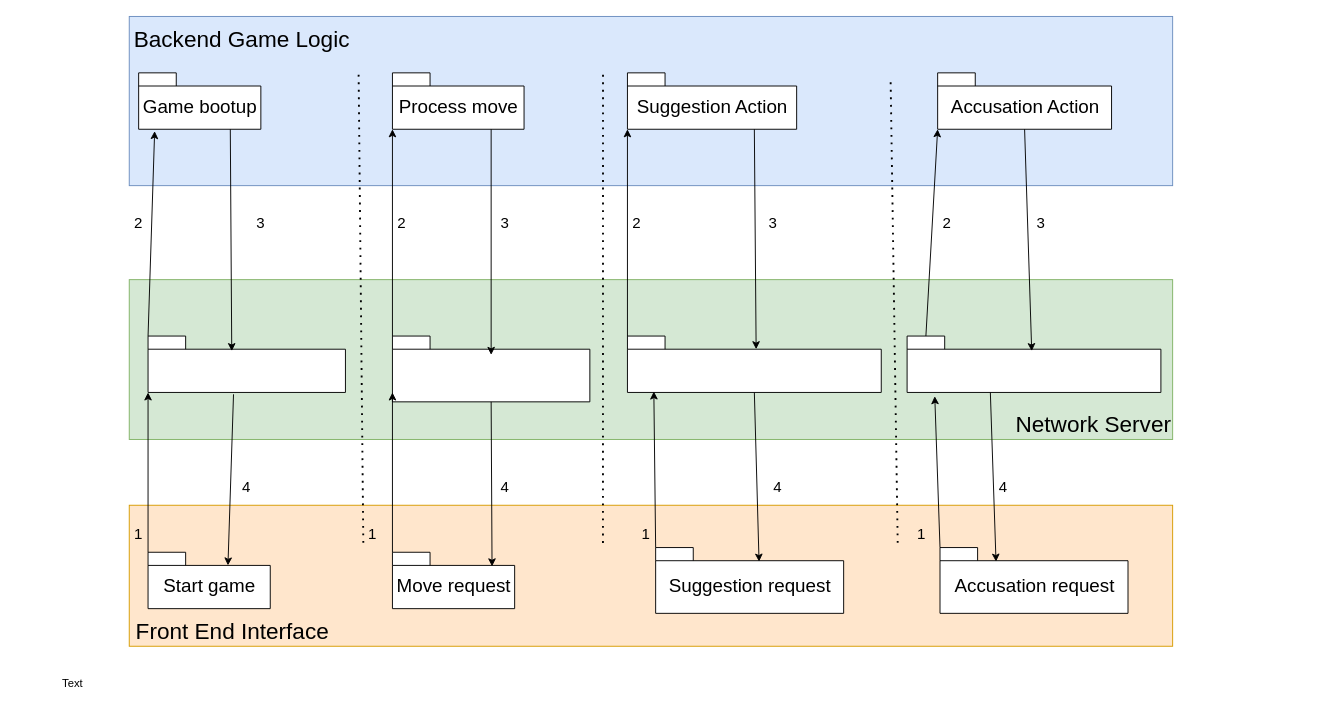
Some shapes in this 1325 by 710 pixel diagram are drawn without their labels. The shapes that lost their labels are listed below. From the top down, each one's centre as x and y in pixels, then its label:
At point (246, 363): "Handle game request".
At point (491, 368): "Handle move request".
At point (754, 363): "Handle suggestion request".
At point (1033, 363): "Handle accusation request".
